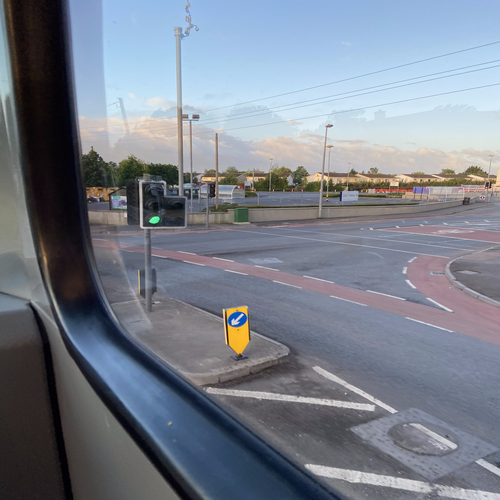Keep Left: (222, 301, 257, 361)
Traffic Light: (127, 179, 189, 228)
